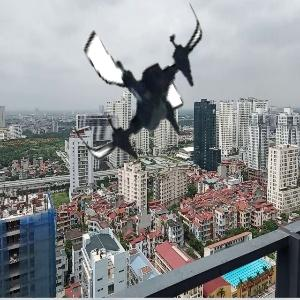drone: (62, 7, 225, 170)
